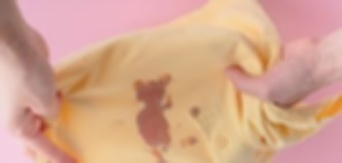blood: (134, 79, 170, 145)
